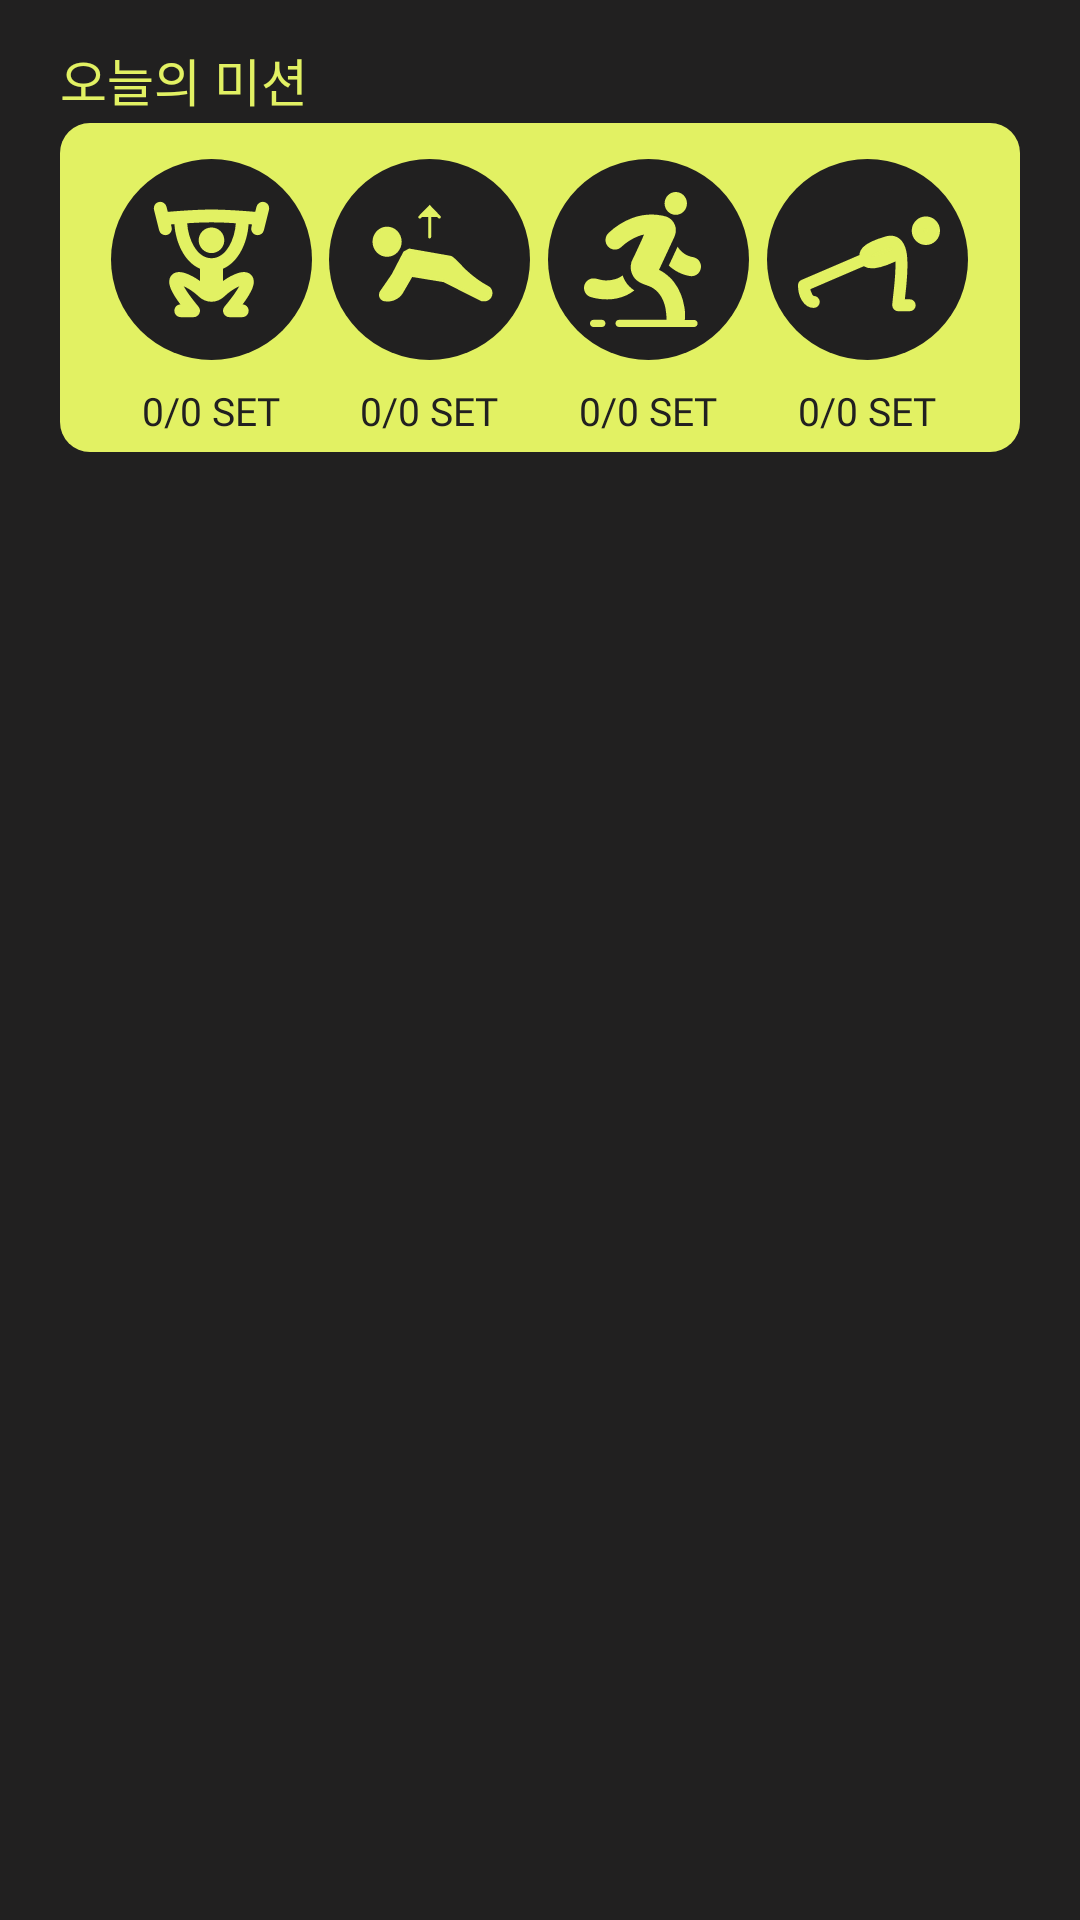

Named icons in this screenshot (1080px x 1920px) and their bounding boxes, (x1,y1,x2,y2):
run mission: (548,159,749,360)
squat mission: (111,159,312,360)
